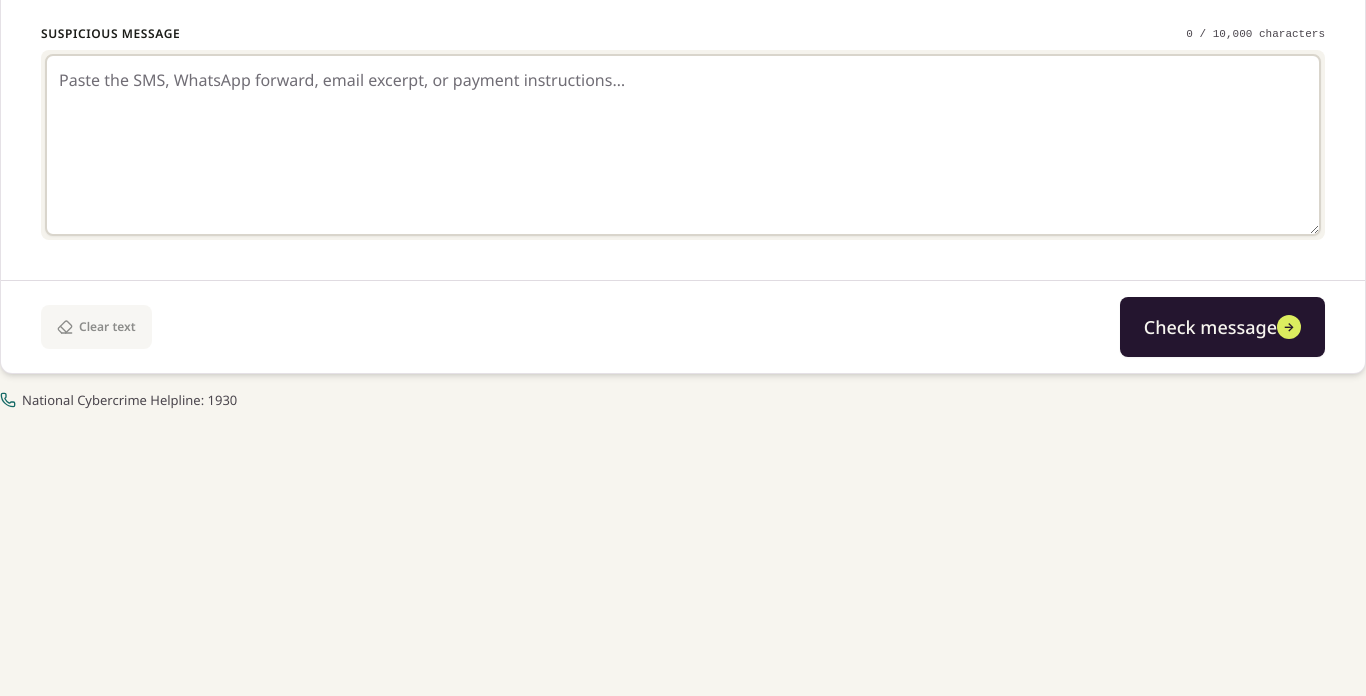
Test case: FraudChecker › renders low-risk result correctly
In the text box labelled "Suspicious message": (683, 145) [45,54,1321,236], type "Hello, how are you?"
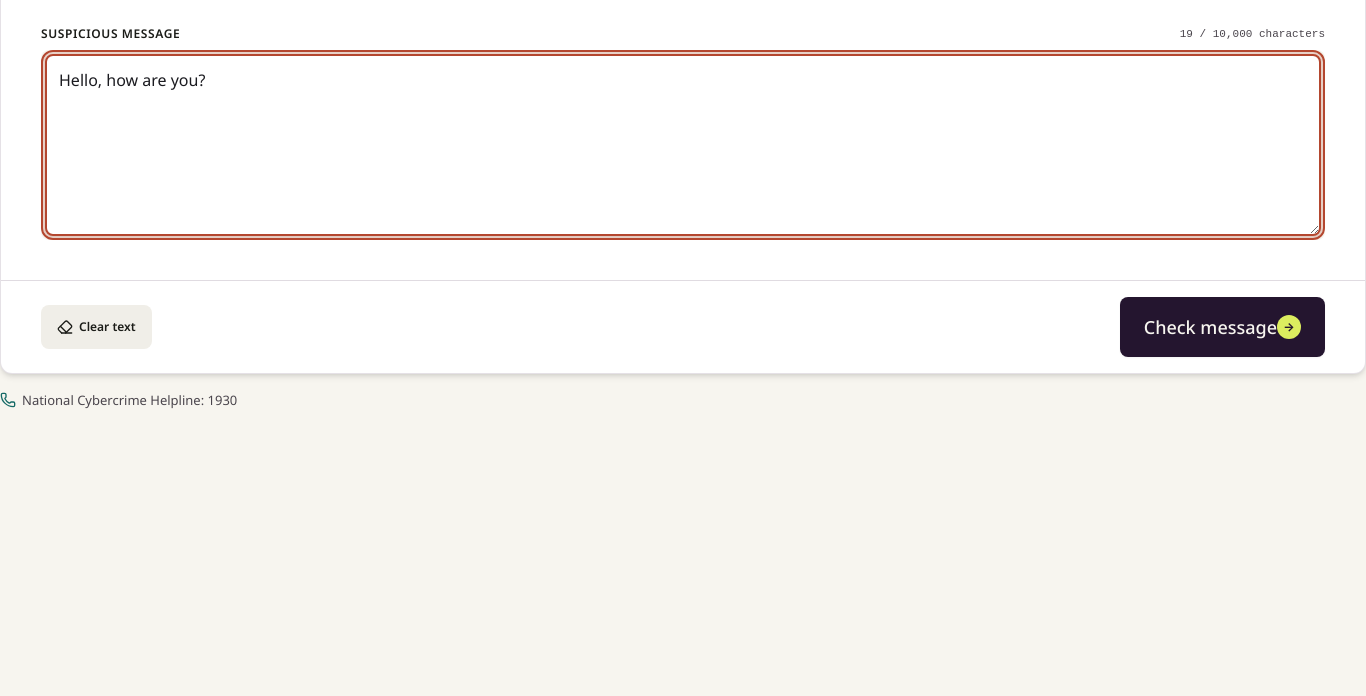
Click the button "Check message →": (1222, 327) [1120,297,1325,357]
(page scrolled)
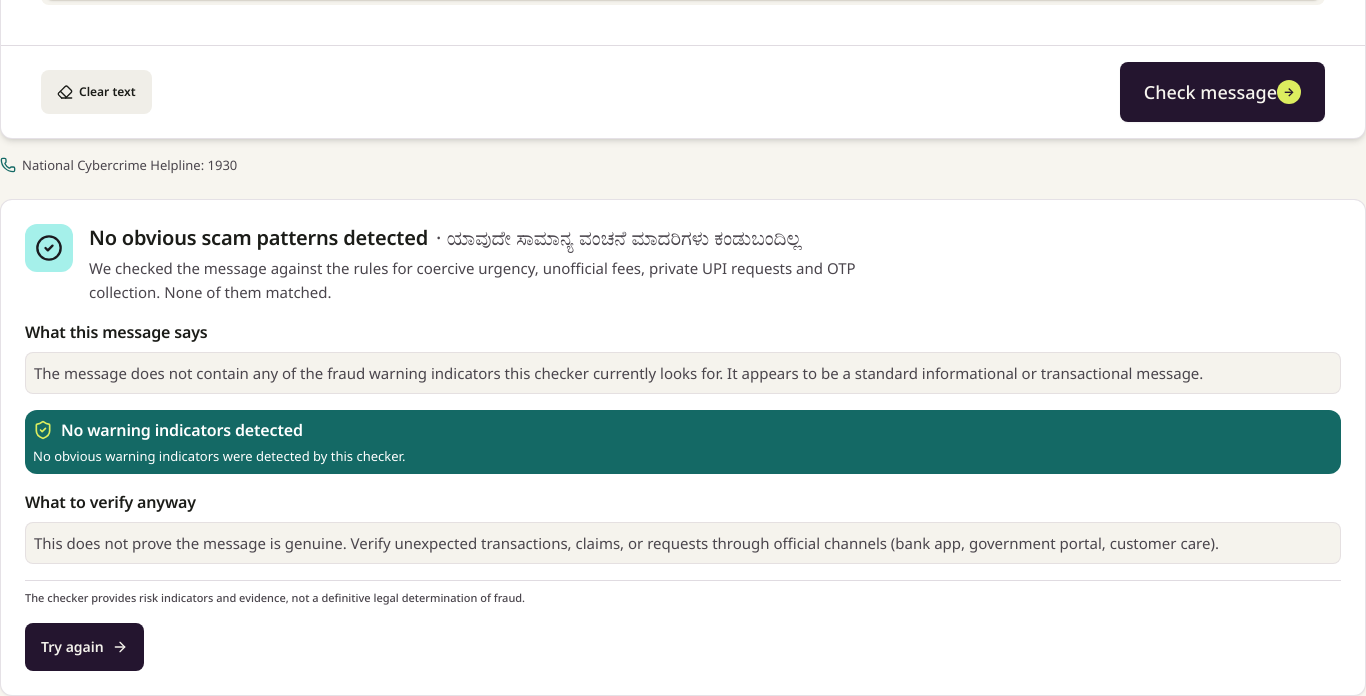
Expected: the heading "What this message says" is shown, [25,321,208,343]
Expected: the heading "No warning indicators detected" is shown, [61,418,303,442]
Expected: the heading "What to verify anyway" is shown, [25,491,196,513]
